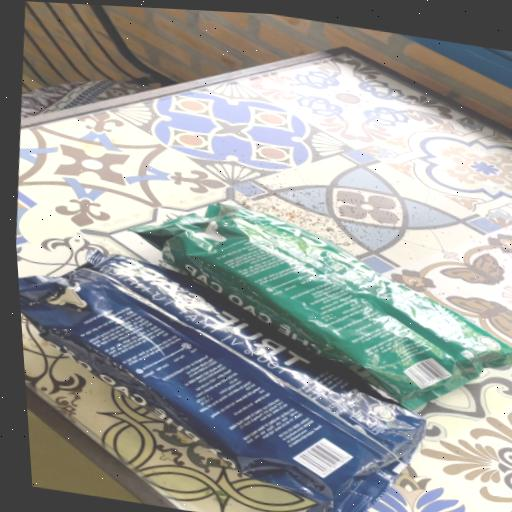cafe_hat: (19, 250, 425, 512)
cafe_xay: (132, 203, 512, 411)
